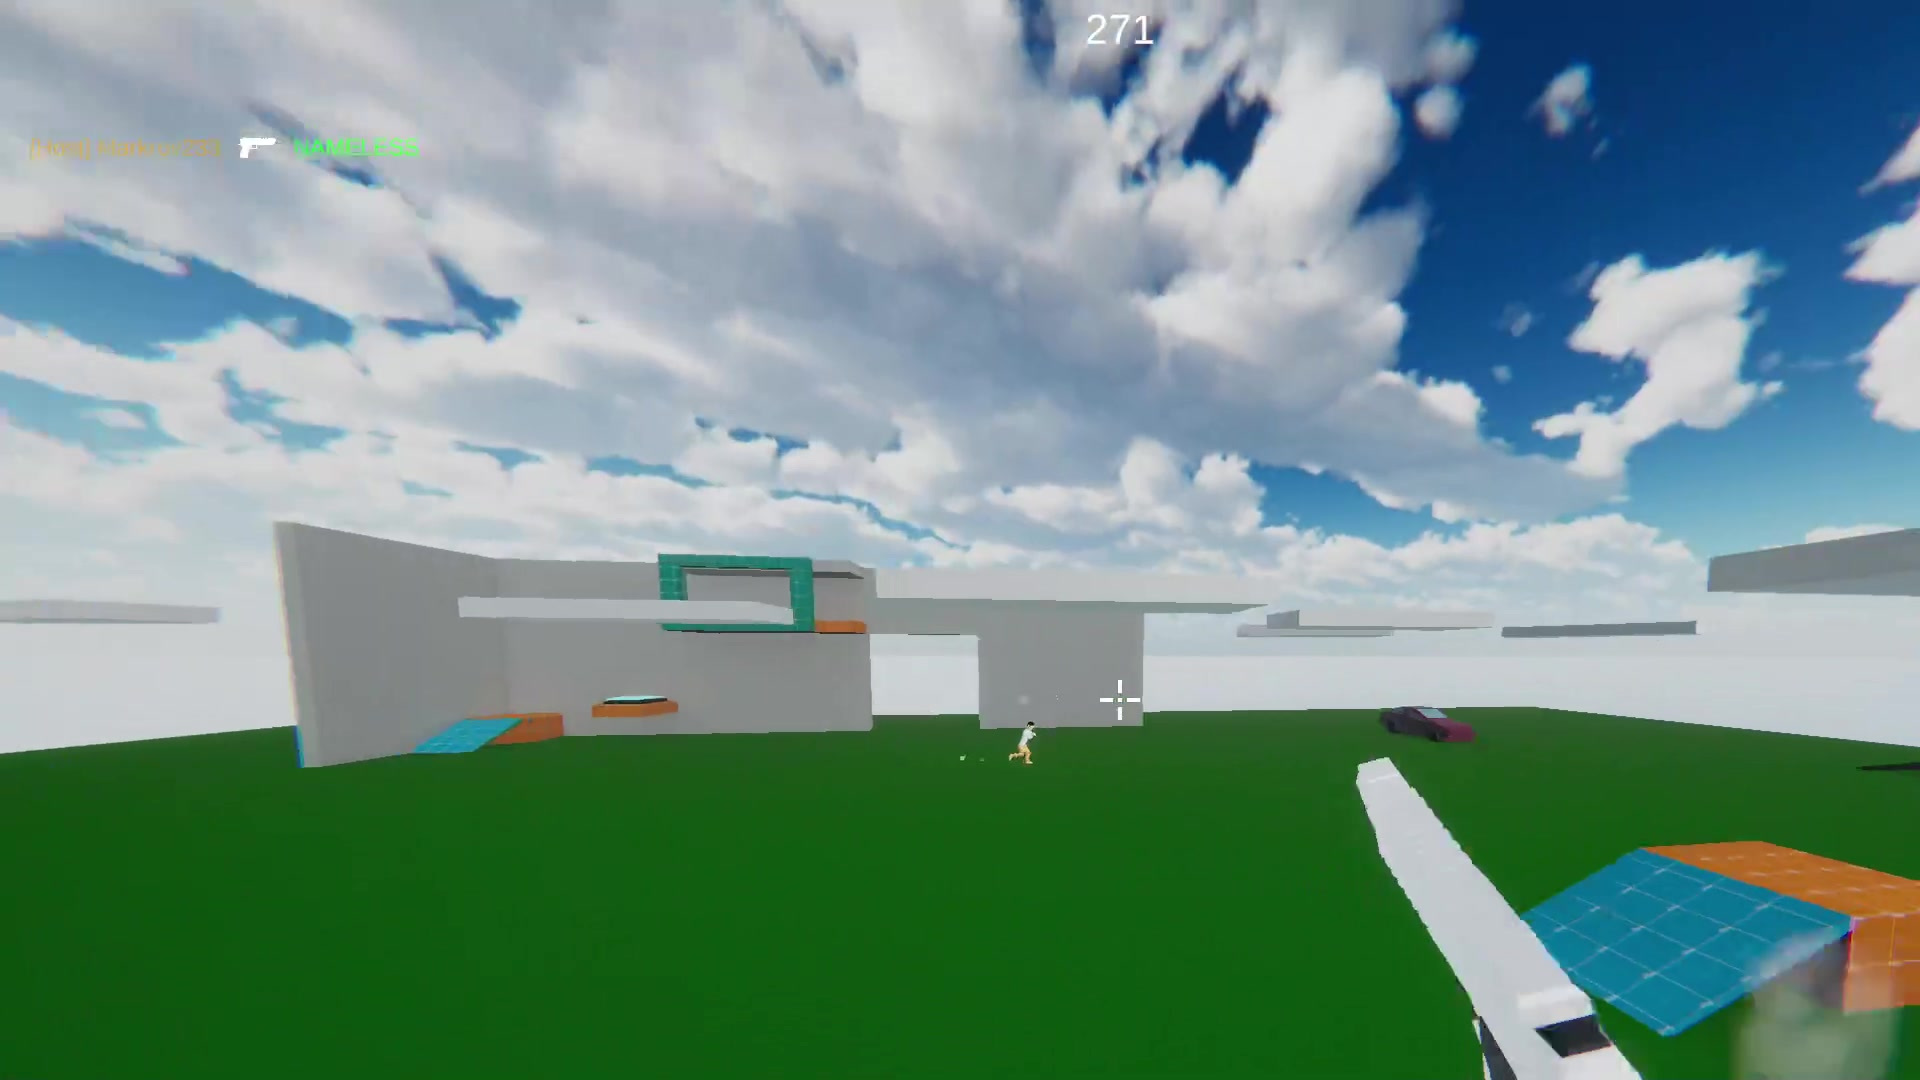human: (1009, 721, 1040, 769)
